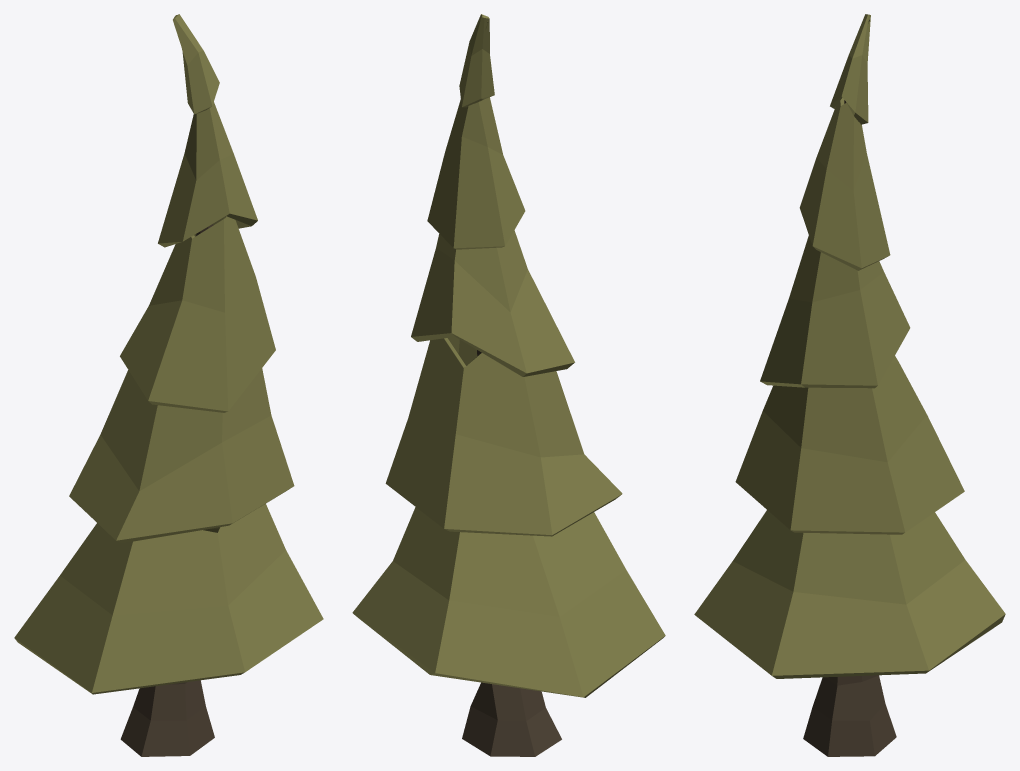
The model's file is Tree_Pine2.fbx.
3 renders of one model, left to right at view 1: azimuth 30°, elevation 25°; view 2: azimuth 150°, elevation 25°; view 3: azimuth 270°, elevation 25°, orthographic. The views are drawn at different scales.
Parts seen in each view (by area): view 1: Cylinder.009; view 2: Cylinder.009; view 3: Cylinder.009.
Boxes of the visible parts, <box> form: Cylinder.009: <box>14,14,323,756</box>; Cylinder.009: <box>352,14,665,756</box>; Cylinder.009: <box>694,14,1005,756</box>.
Size of the model in its own units: 272 by 801 by 308.
